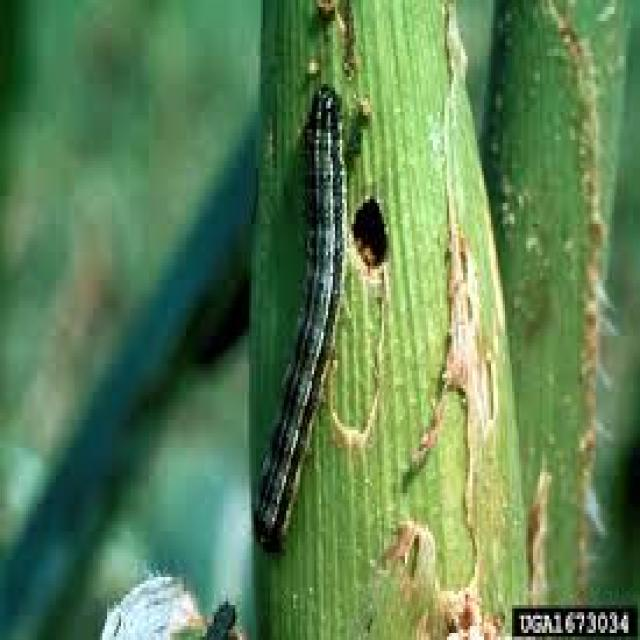Army Worm: (251, 82, 353, 550)
